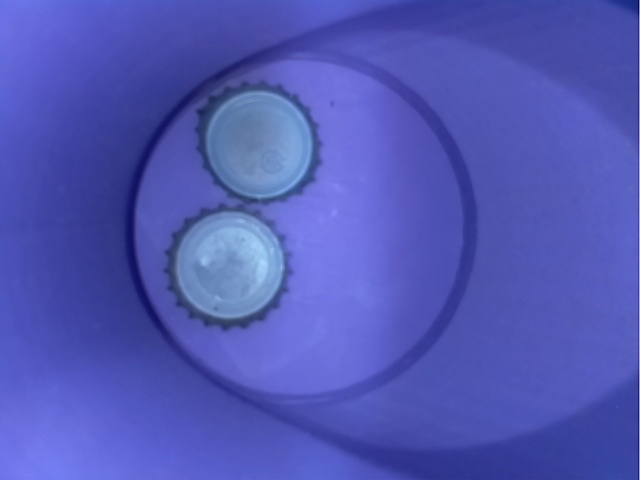capsule: (158, 204, 302, 336), (182, 75, 329, 204)
